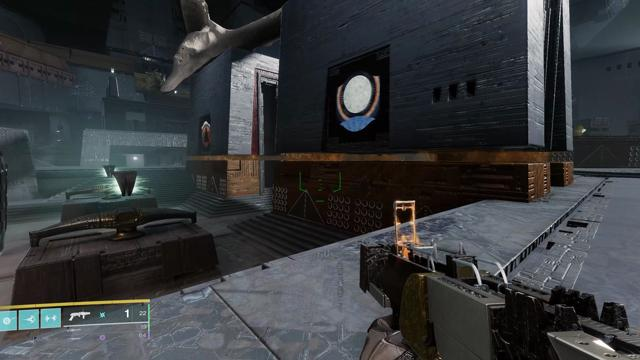pyramid: (201, 121, 211, 148)
traveler: (334, 71, 382, 132)
